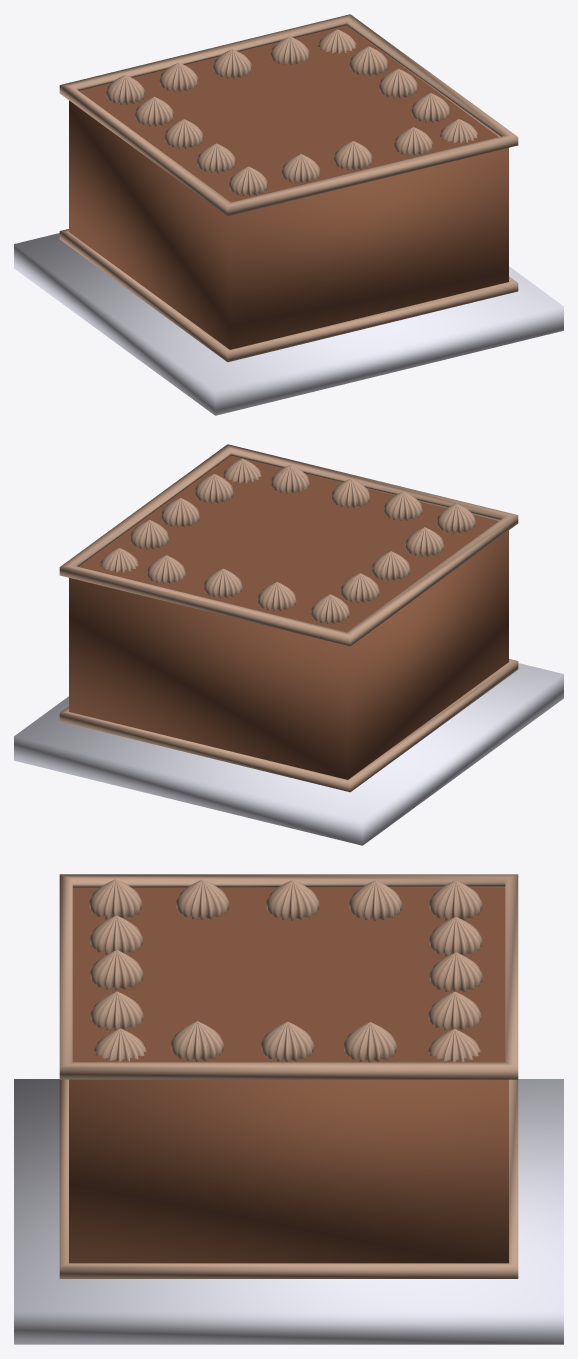
The model's file is square_chocolate_style1.glb.
The picture shows the model from 3 angles, top to bottom: view 1: azimuth 30°, elevation 25°; view 2: azimuth 150°, elevation 25°; view 3: azimuth 270°, elevation 25°; orthographic projection. The views are drawn at different scales.
Parts seen in each view (by area): view 1: CakeBase, IcingStand, CakeTopCircle, IcingRing, IcingRing001, design13, design12, design15, design3, design14, design1, design4 (+9 smaller); view 2: CakeBase, IcingStand, CakeTopCircle, IcingRing, IcingRing001, design12, design13, design15, design16, design14, design1, design4 (+9 smaller); view 3: CakeBase, IcingStand, CakeTopCircle, IcingRing, IcingRing001, design1, design3, design4, design12, design8, design9, design14 (+9 smaller).
Part boxes in pixels (box(x1,y1,x2,y2)): CakeBase: box(69, 100, 508, 349); IcingStand: box(14, 233, 563, 415); CakeTopCircle: box(79, 25, 498, 202); IcingRing: box(59, 14, 518, 216); IcingRing001: box(59, 229, 518, 362); design13: box(229, 166, 267, 196); design12: box(106, 75, 144, 104); design15: box(135, 97, 173, 126); design3: box(349, 46, 388, 75); design14: box(197, 143, 235, 173); design1: box(379, 68, 417, 98); design4: box(411, 93, 450, 122); CakeBase: box(69, 530, 508, 779); IcingStand: box(14, 663, 563, 845); CakeTopCircle: box(79, 455, 498, 632); IcingRing: box(59, 444, 518, 646); IcingRing001: box(59, 659, 518, 792); design12: box(311, 594, 349, 623); design13: box(437, 503, 475, 533); design15: box(340, 573, 379, 602); design16: box(371, 551, 410, 580); design14: box(405, 527, 443, 556); design1: box(161, 498, 199, 527); design4: box(195, 474, 233, 503); CakeBase: box(69, 1079, 508, 1263); IcingStand: box(14, 1079, 563, 1344); CakeTopCircle: box(72, 887, 505, 1062); IcingRing: box(59, 874, 518, 1079); IcingRing001: box(59, 1079, 518, 1278); design1: box(260, 1021, 314, 1062); design3: box(343, 1022, 396, 1062); design4: box(170, 1021, 223, 1061); design12: box(429, 880, 482, 920); design8: box(429, 952, 482, 991); design9: box(90, 950, 143, 990); design14: box(176, 879, 229, 919).
Size of the model in its own units: 3 by 1.69 by 3.
